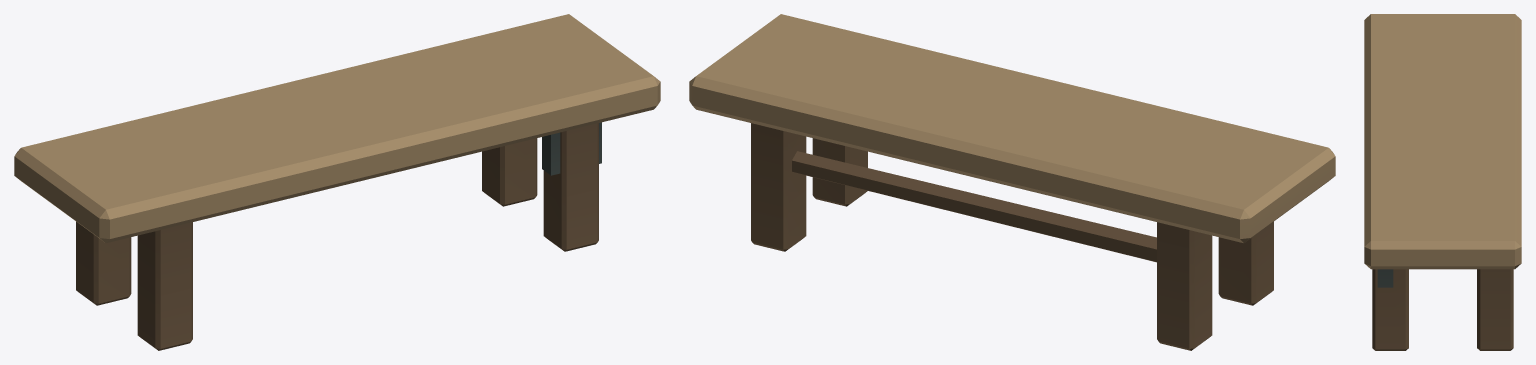
Rendered from bench_loose.glb.
3 renders of one model, left to right at view 1: azimuth 30°, elevation 25°; view 2: azimuth 150°, elevation 25°; view 3: azimuth 270°, elevation 25°, orthographic. The views are drawn at different scales.
Parts seen in each view (by area): view 1: bench_loose; view 2: bench_loose; view 3: bench_loose.
Part boxes in pixels (box(x1,y1,x2,y2)): bench_loose: box(14, 14, 660, 350); bench_loose: box(689, 14, 1335, 350); bench_loose: box(1364, 14, 1521, 350).
Size of the model in its own units: 2.1 by 0.56 by 0.6.
